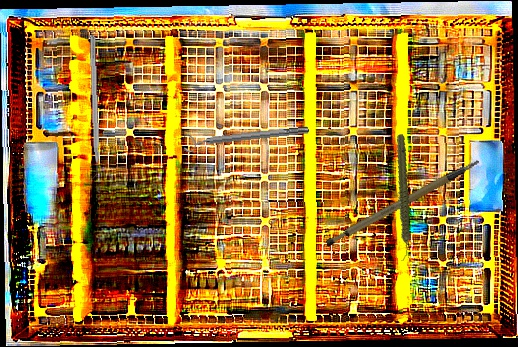Chopper: (81, 34, 101, 184)
Fixation Ring: (182, 120, 310, 154)
Handpiece: (372, 133, 432, 262)
Scalpel Handle: (317, 158, 490, 251)
